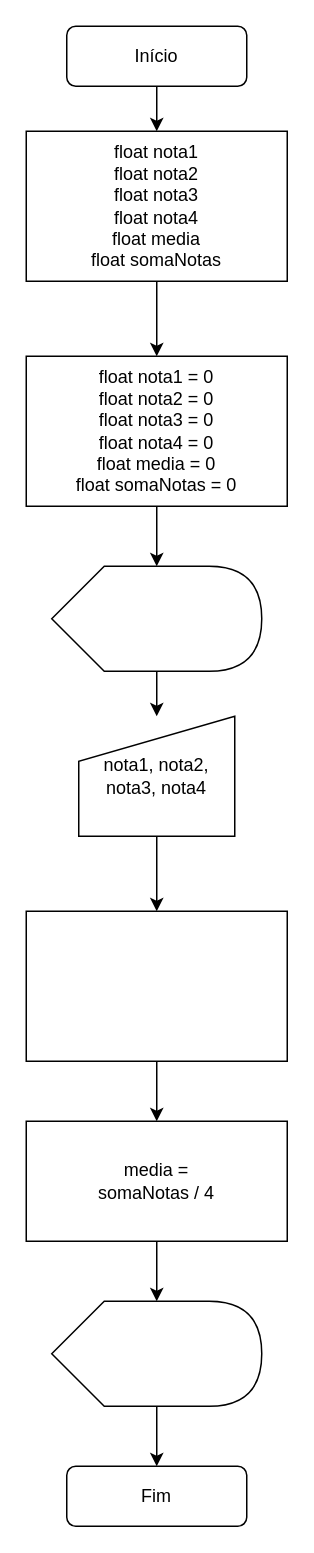
This 314x1553 diagram has some shape labels left out. Here are the shapes that lost their labels. From the top down, the box of each, then its label:
(50, 565, 262, 671): "Insira as 4 notas
(25, 910, 287, 1061): somaNotas = nota1 + nota2 + nota3 + nota4
(50, 1300, 262, 1406): "Sua média é " + media
